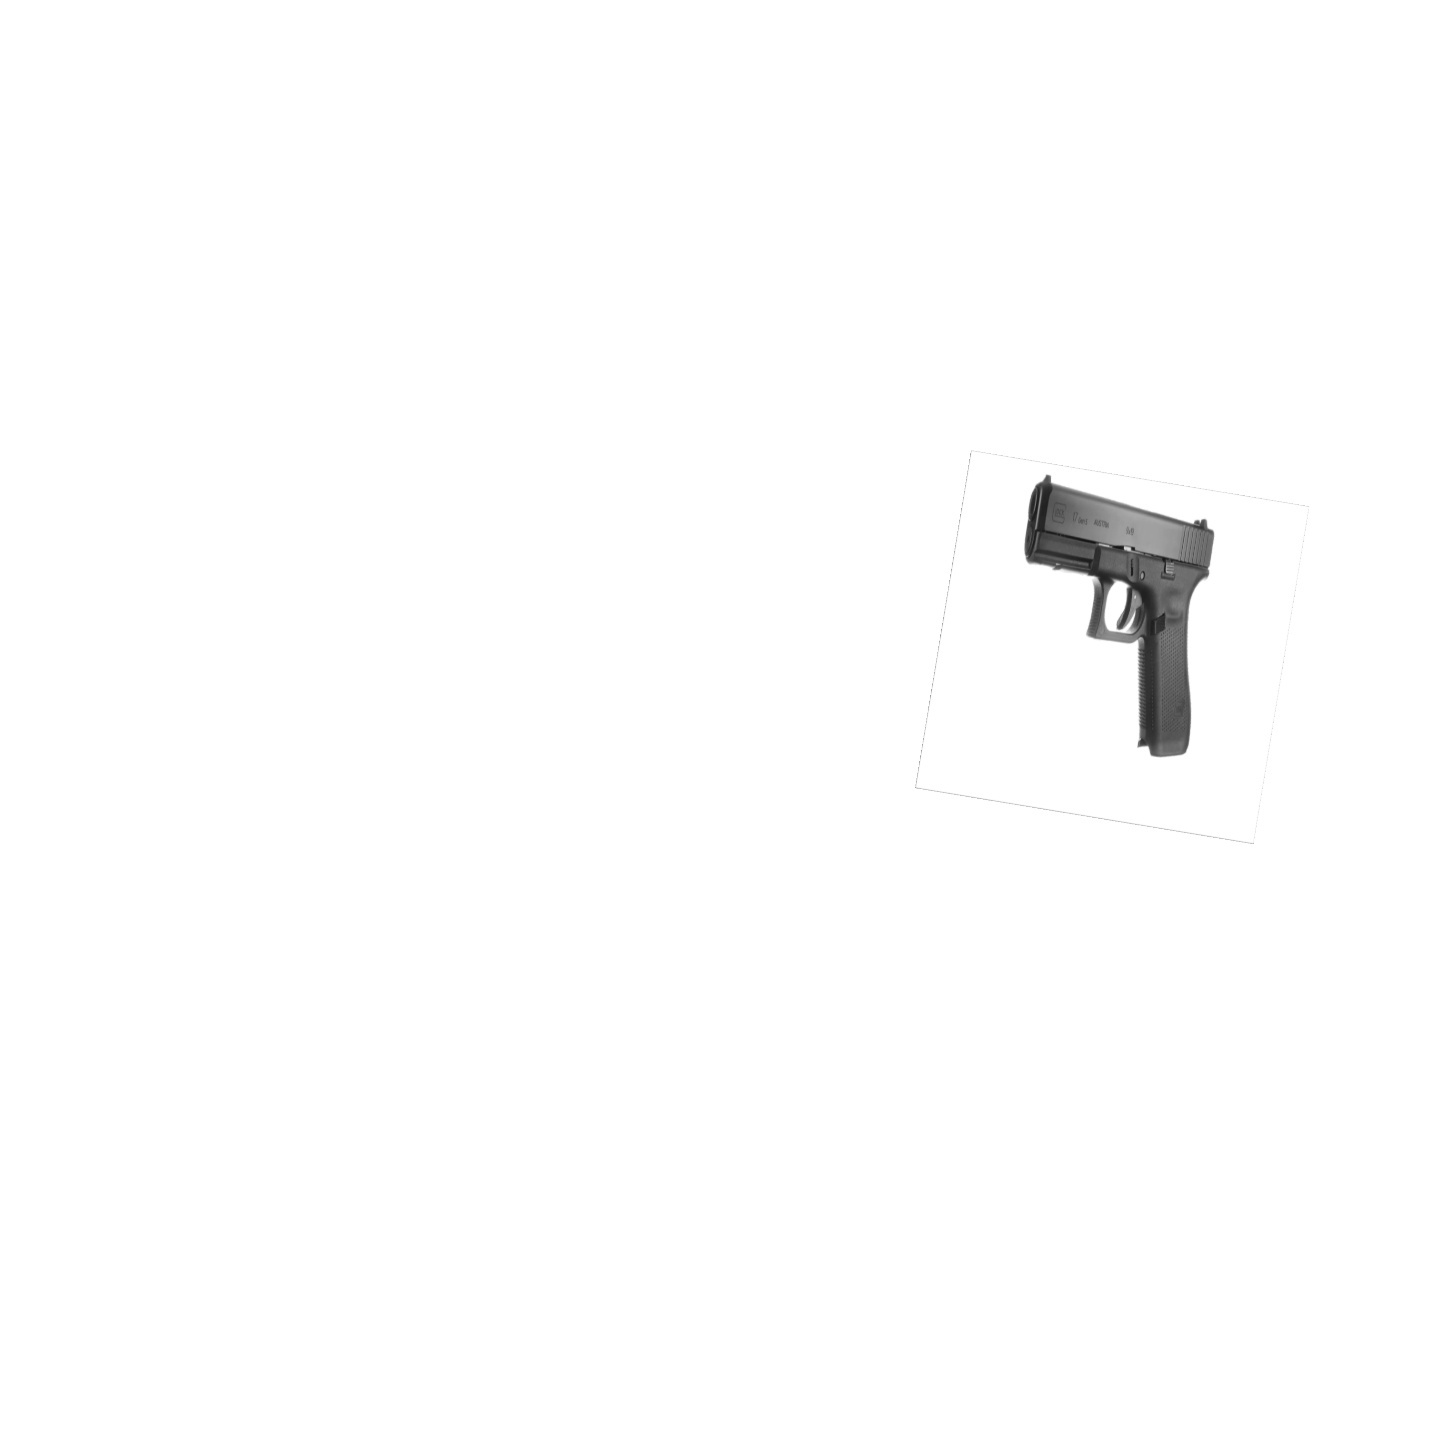gun: (1015, 471, 1226, 762)
